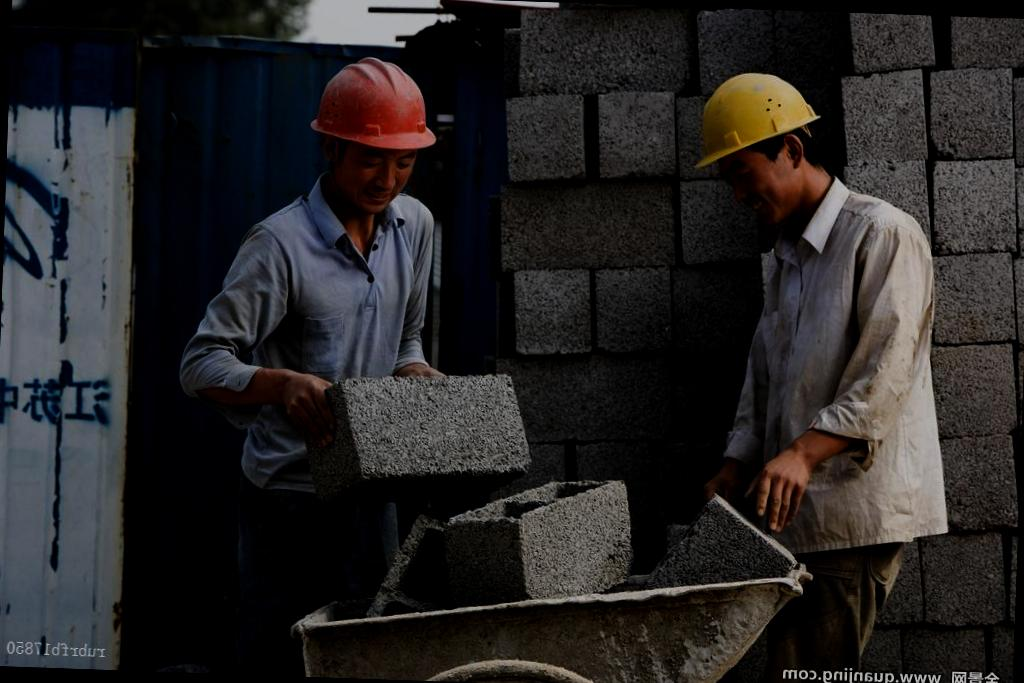helmet: (684, 54, 857, 196), (286, 40, 454, 162)
no_vest: (709, 194, 970, 556), (176, 176, 460, 390)
person: (164, 36, 452, 590), (687, 59, 958, 641)
